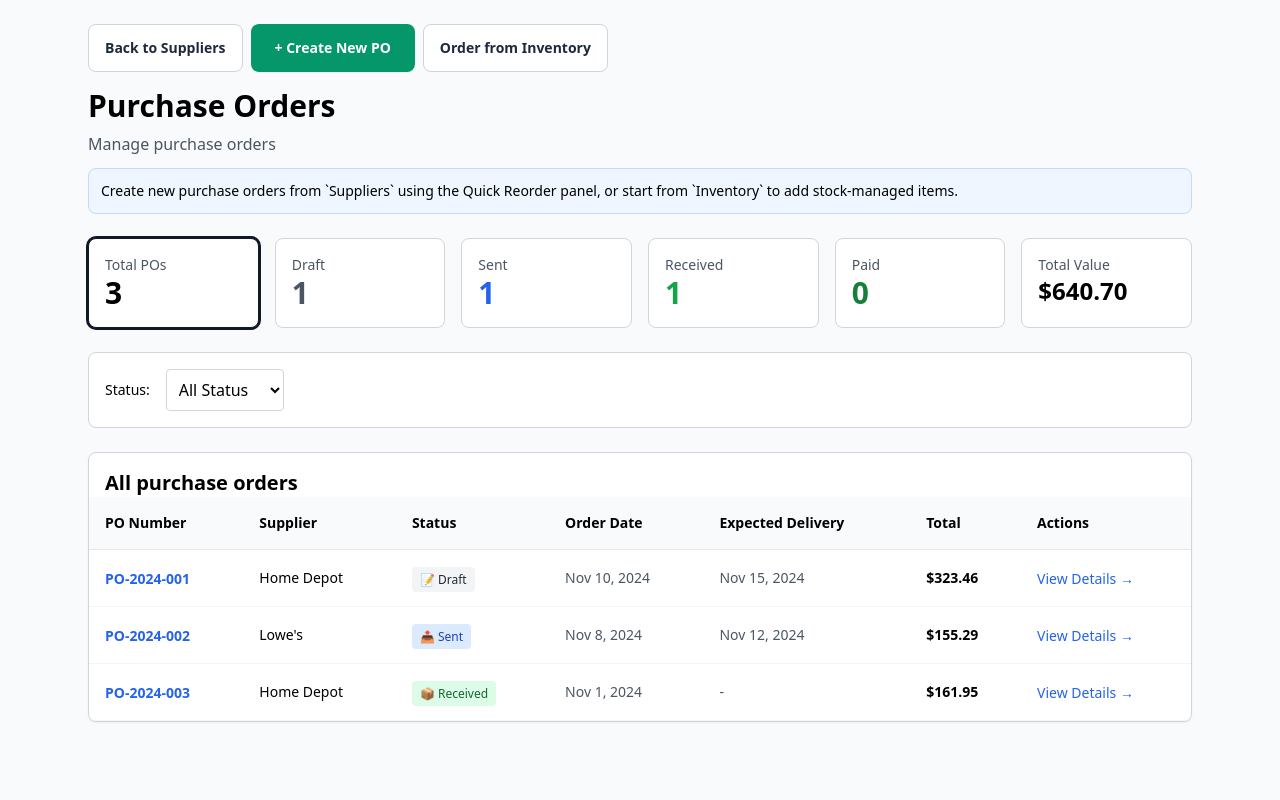
PurchaseOrders Component - Phase 2B › should filter POs by status
Select "Draft" in the dropdown labelled "Status:" at (225, 390), box [166,369,284,411]
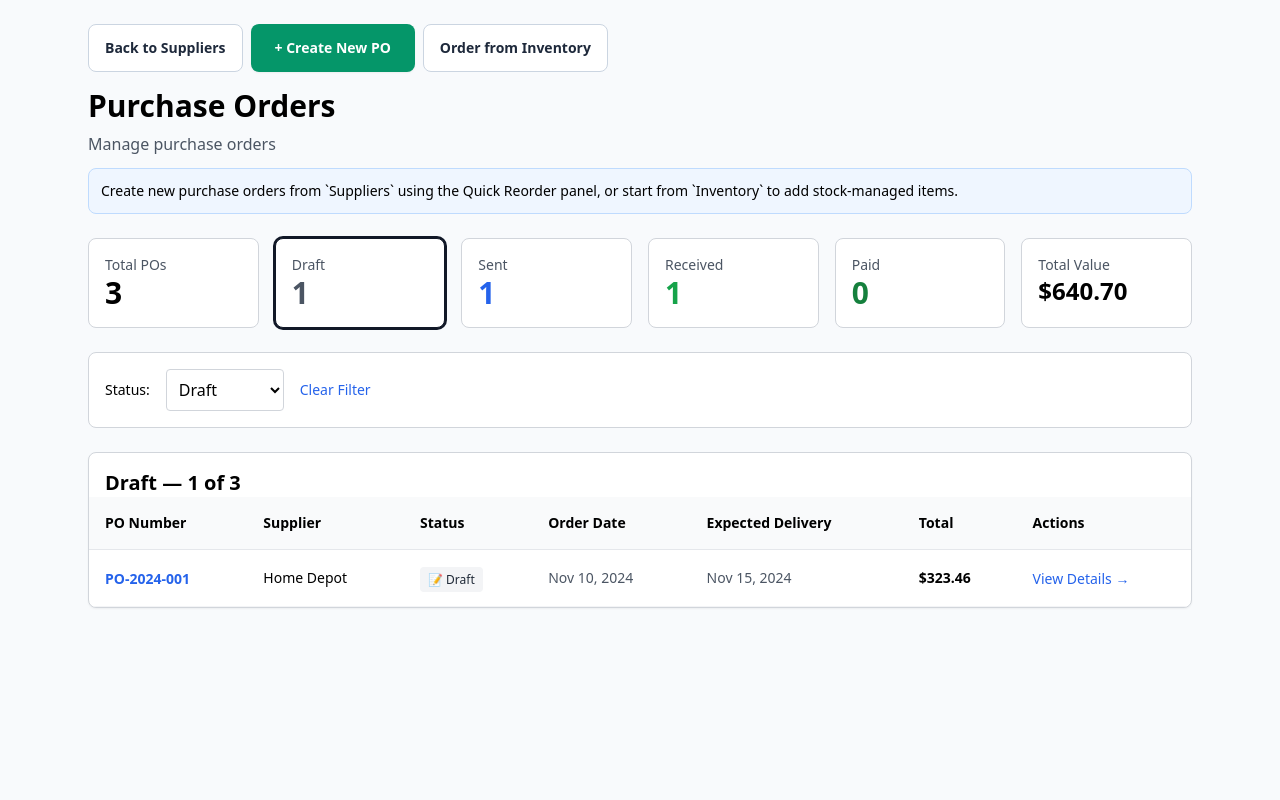
Now the button "PO-2024-002" is gone
